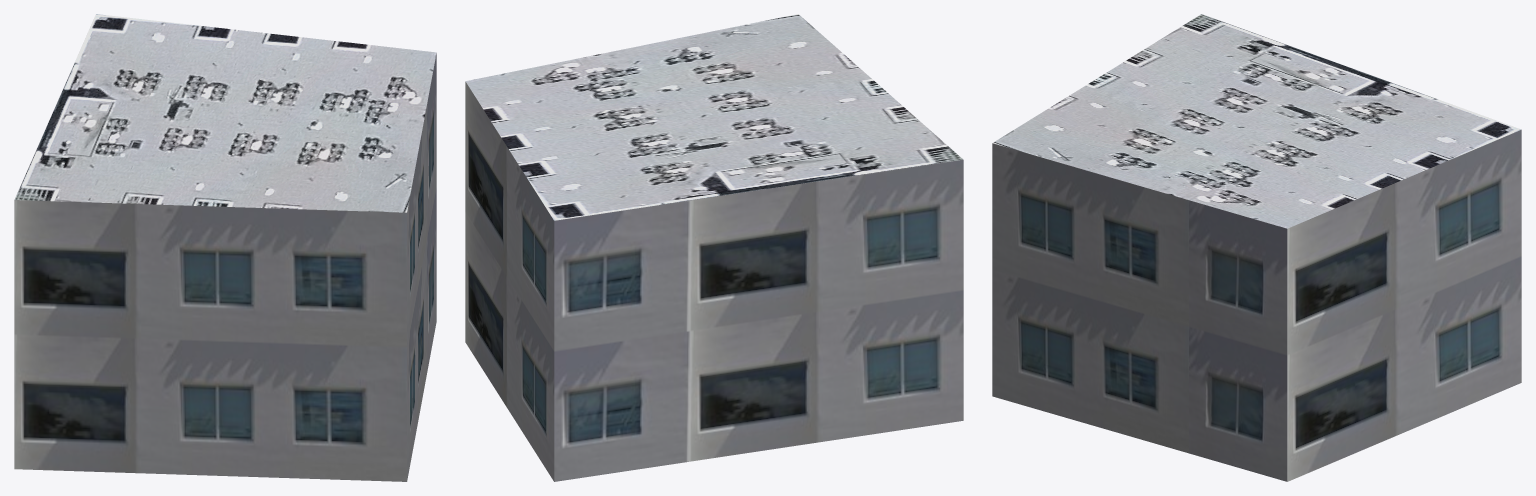
The model's file is ResTex__955.fbx.
The picture shows the model from 3 angles, left to right: view 1: azimuth 30°, elevation 25°; view 2: azimuth 150°, elevation 25°; view 3: azimuth 270°, elevation 25°; orthographic projection. The views are drawn at different scales.
Parts seen in each view (by area): view 1: CityEngineMaterial_10_m, CityEngineMaterial_4_m; view 2: CityEngineMaterial_10_m, CityEngineMaterial_4_m; view 3: CityEngineMaterial_10_m, CityEngineMaterial_4_m.
Boxes of the visible parts, bbox=[...] form: CityEngineMaterial_10_m: bbox=[14, 53, 436, 481]; CityEngineMaterial_4_m: bbox=[14, 14, 436, 212]; CityEngineMaterial_10_m: bbox=[465, 81, 963, 481]; CityEngineMaterial_4_m: bbox=[465, 14, 962, 220]; CityEngineMaterial_10_m: bbox=[992, 129, 1521, 481]; CityEngineMaterial_4_m: bbox=[992, 14, 1520, 228].
Size of the model in its own units: 10.91 by 6 by 11.37.
2 materials, 2 textured.
